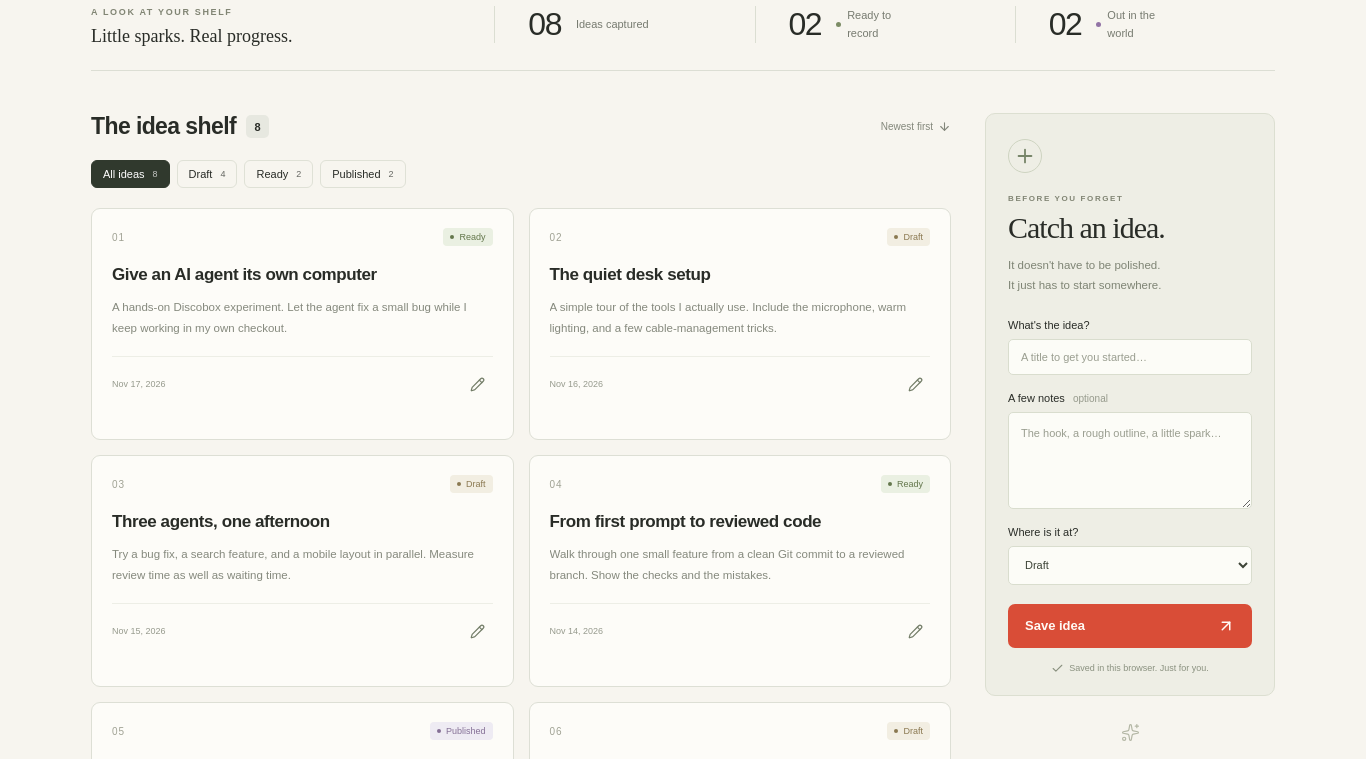
Test: ClipShelf core workflows › requires confirmation to delete an idea
(page scrolled)
Click the button named "Edit The quiet desk setup" at (915, 384), box x1=900 y1=369 x2=930 y2=399
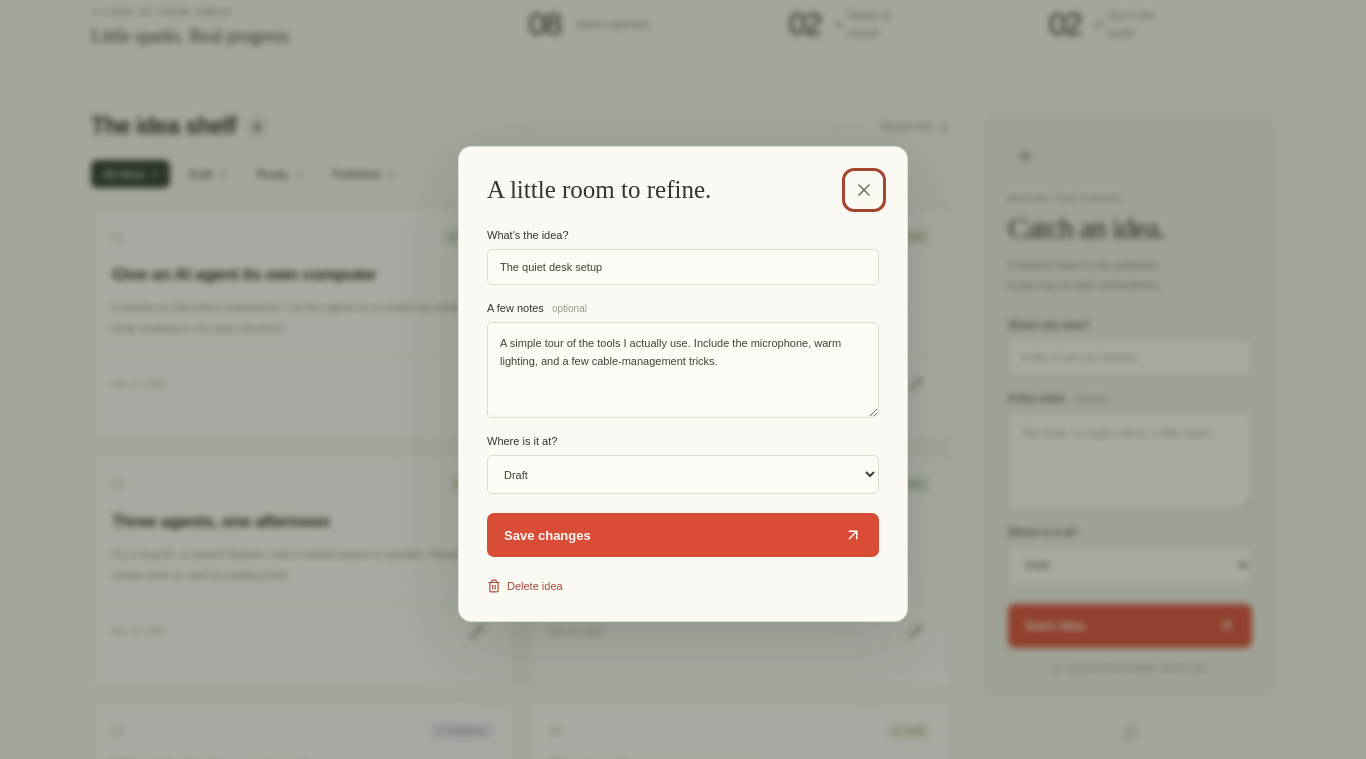
Click the button "Delete idea" at (525, 586), box x1=487 y1=579 x2=563 y2=593
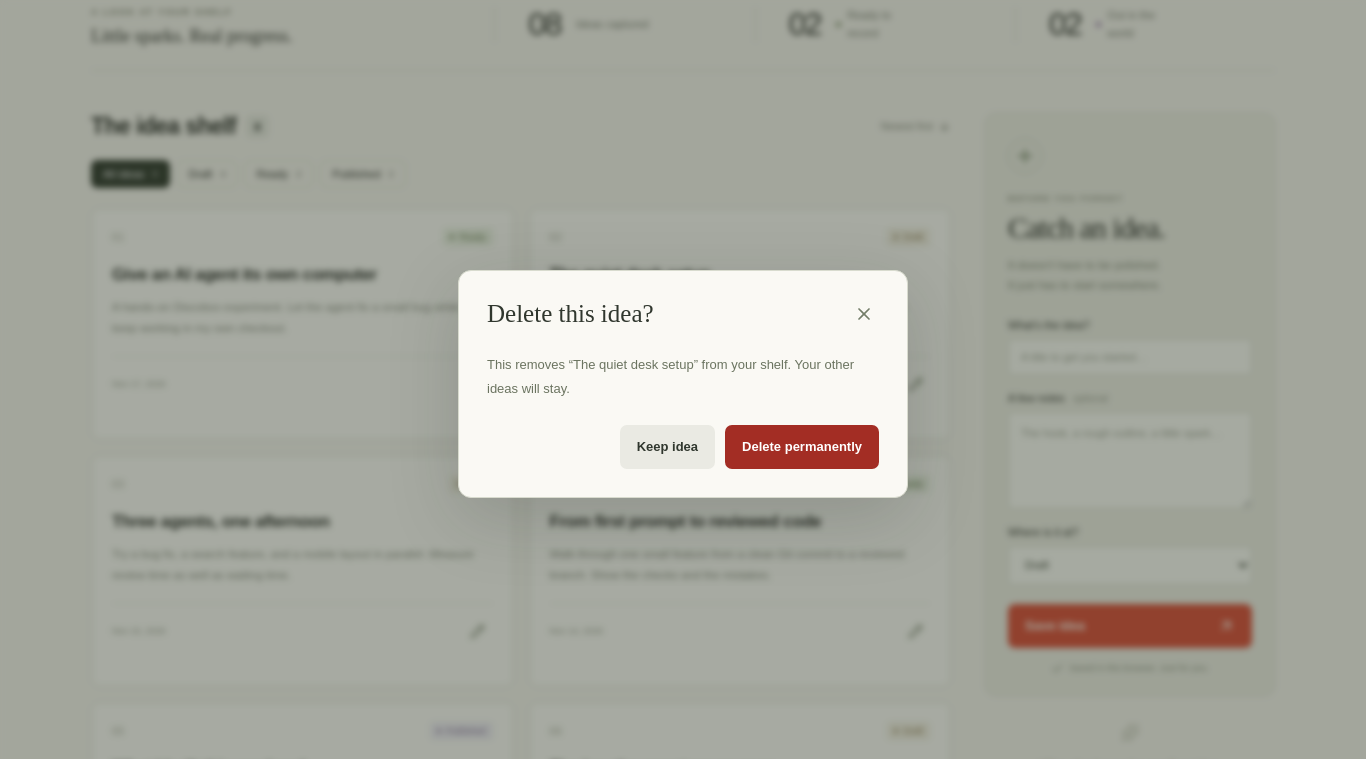
Click the button "Keep idea" at (667, 447), box x1=620 y1=425 x2=715 y2=469
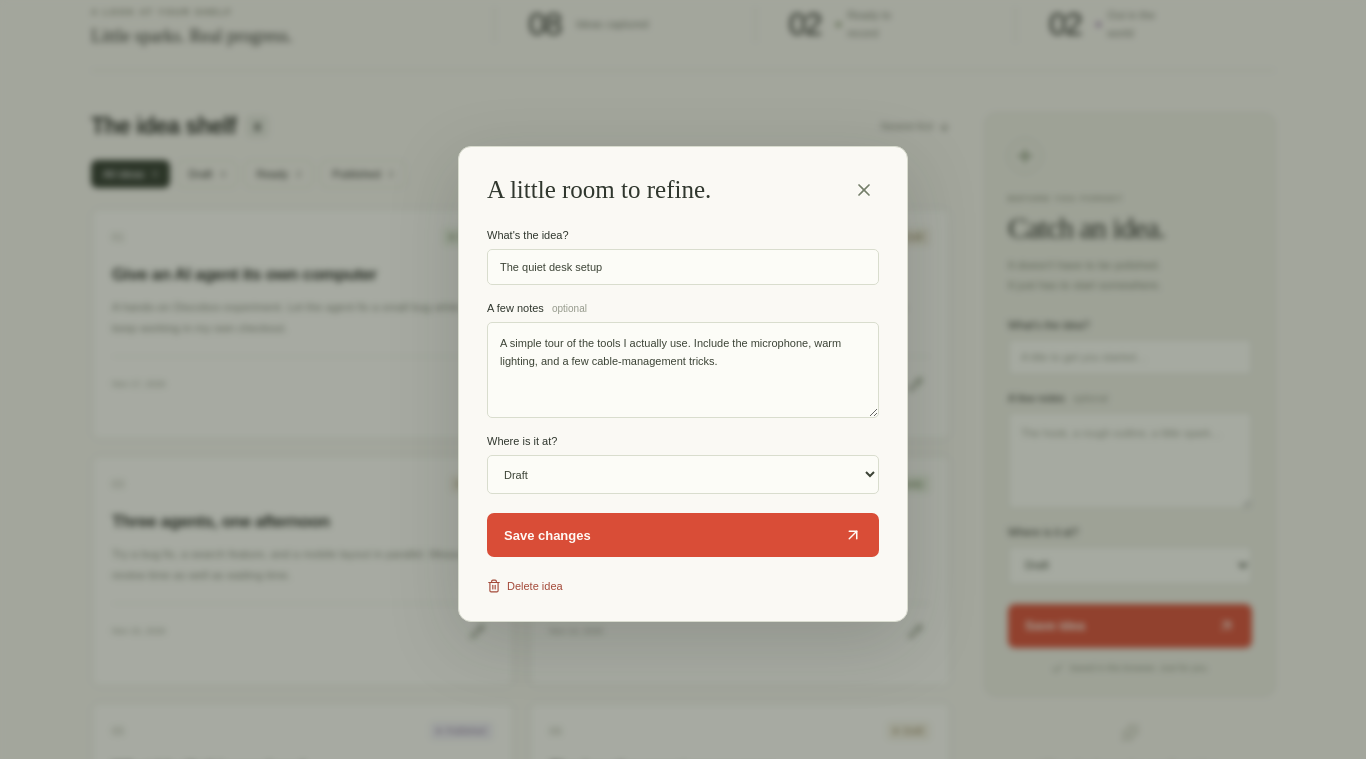
Click the button "Delete idea" at (525, 586), box x1=487 y1=579 x2=563 y2=593
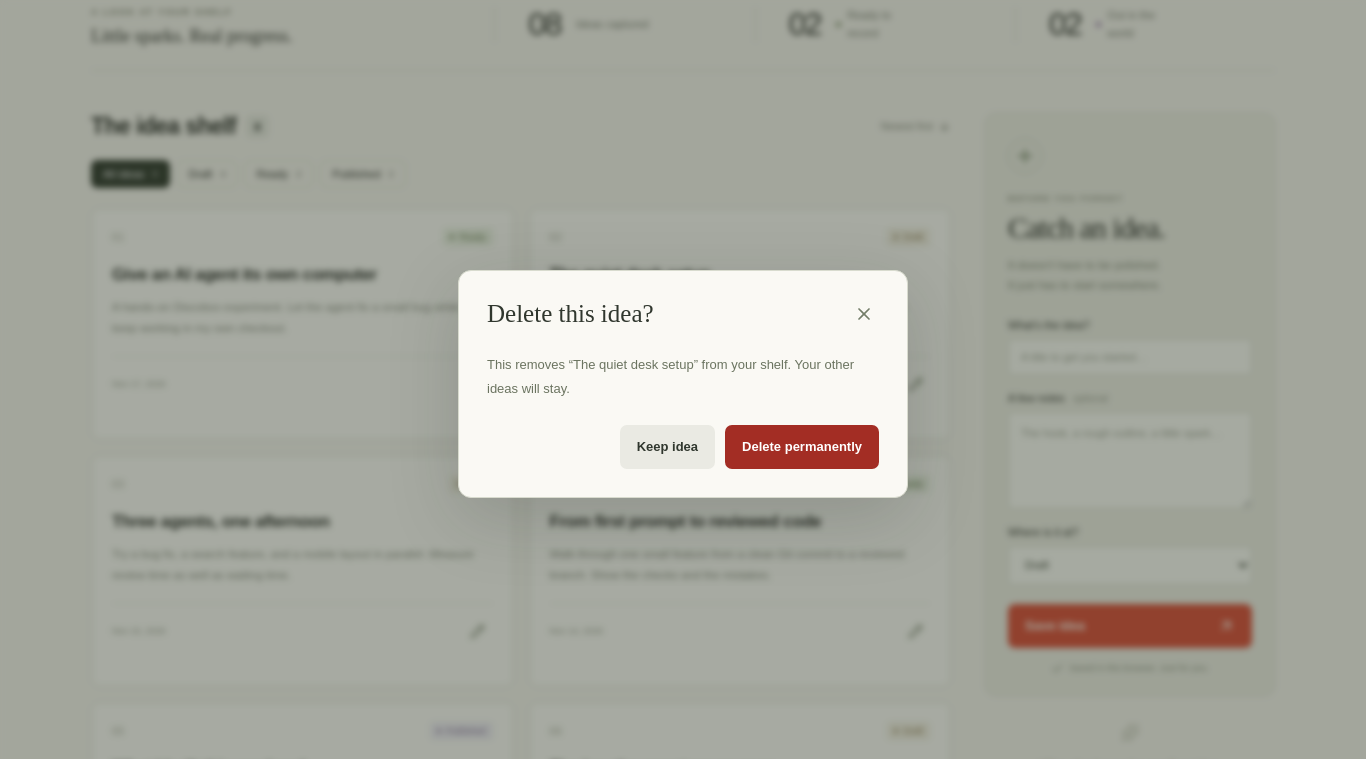
Click the button "Delete permanently" at (802, 447), box x1=725 y1=425 x2=879 y2=469
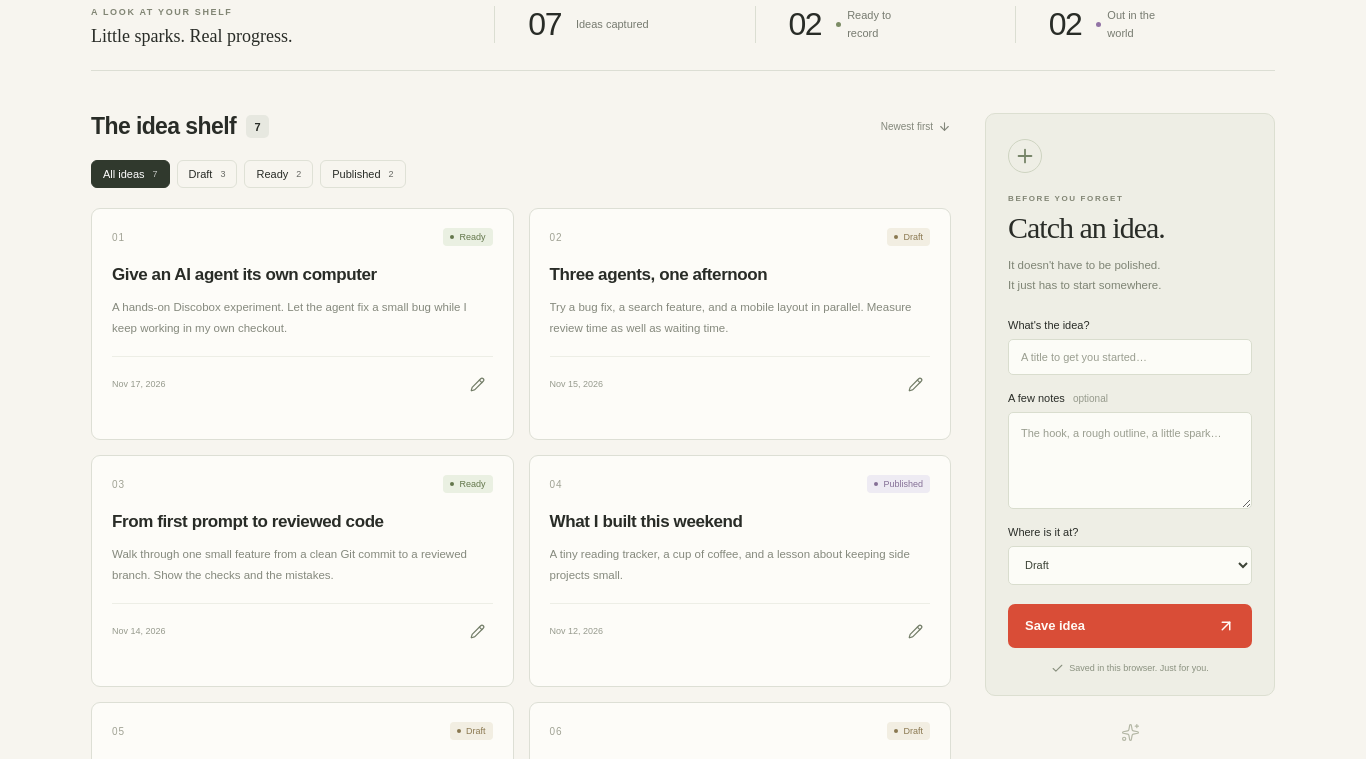
Result: the heading "The quiet desk setup" is gone
